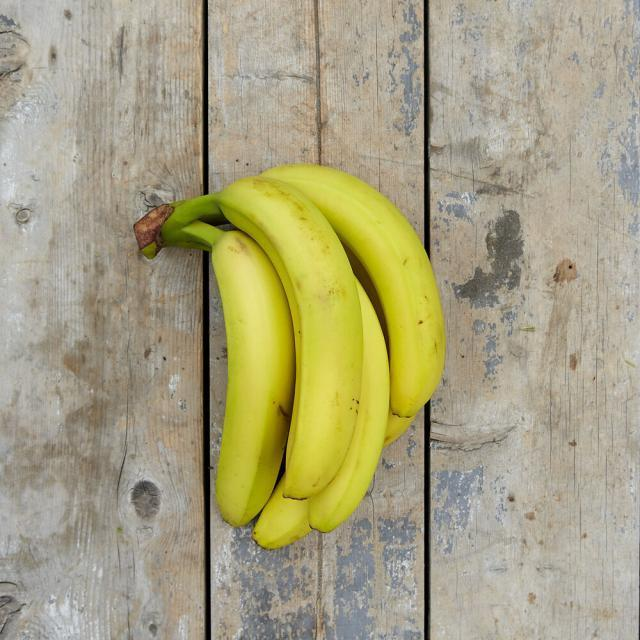Banana: (130, 159, 459, 562)
